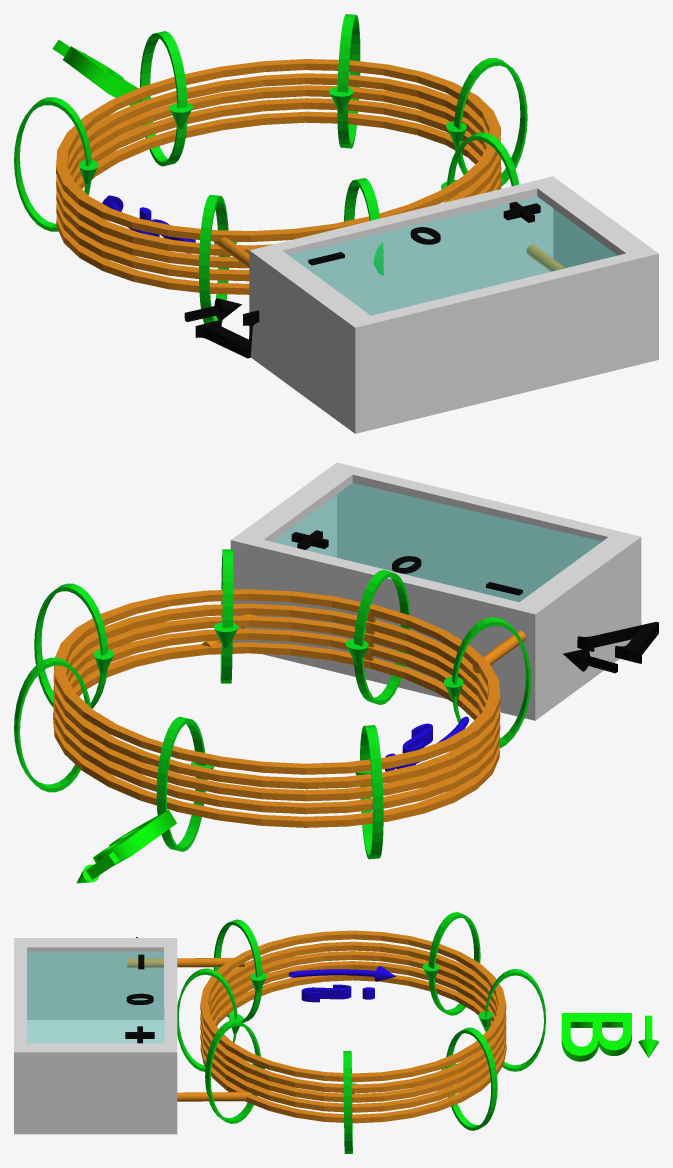
Rendered from multimetro3.dae.
3 renders of one model, top to bottom at view 1: azimuth 30°, elevation 25°; view 2: azimuth 150°, elevation 25°; view 3: azimuth 270°, elevation 25°, orthographic. The views are drawn at different scales.
Visible parts, largest first — view 1: Cono.010, Cilindro.016, Cilindro.007, Cilindro.006, Cilindro.009, Cono.001, Cilindro.008, Texto.005, Cilindro.002, Cilindro.013; view 2: Cono.010, Cilindro.002, Cono.001, Cilindro.016, Cilindro.006, Cilindro.009, Texto.005, Cilindro.008, Cilindro.007, Cilindro.013, Texto.011; view 3: Cono.010, Texto.005, Cilindro.009, Cilindro.007, Cilindro.008, Cilindro.013, Cilindro.016, Cilindro.002, Cilindro.006, Texto.011, NurbsCurve.
Boxes of the visible parts, <box> form: Cono.010: <box>56,59,658,433</box>; Cilindro.016: <box>140,31,192,166</box>; Cilindro.007: <box>329,14,360,148</box>; Cilindro.006: <box>446,58,527,186</box>; Cilindro.009: <box>14,97,98,231</box>; Cono.001: <box>184,298,259,358</box>; Cilindro.008: <box>199,194,236,323</box>; Texto.005: <box>52,40,150,105</box>; Cilindro.002: <box>344,178,383,275</box>; Cilindro.013: <box>441,132,518,199</box>; Cono.010: <box>53,462,641,827</box>; Cilindro.002: <box>345,570,410,704</box>; Cono.001: <box>563,622,658,673</box>; Cilindro.016: <box>156,716,214,851</box>; Cilindro.006: <box>34,583,114,708</box>; Cilindro.009: <box>355,725,383,859</box>; Texto.005: <box>76,809,176,883</box>; Cilindro.008: <box>444,617,530,748</box>; Cilindro.007: <box>14,657,93,792</box>; Cilindro.013: <box>213,549,238,683</box>; Texto.011: <box>385,723,432,771</box>; Cono.010: <box>14,930,506,1134</box>; Texto.005: <box>561,1013,658,1061</box>; Cilindro.009: <box>422,912,480,1015</box>; Cilindro.007: <box>441,1027,497,1130</box>; Cilindro.008: <box>213,919,266,1022</box>; Cilindro.013: <box>205,1020,264,1123</box>; Cilindro.016: <box>478,969,545,1071</box>; Cilindro.002: <box>177,968,243,1071</box>; Cilindro.006: <box>343,1051,356,1153</box>; Texto.011: <box>301,984,374,1002</box>; NurbsCurve: <box>288,966,395,981</box>.
Bounding box in the file's own units: 1.31 × 2.03 × 0.3487.
